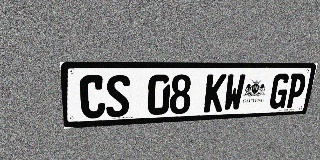0: (147, 74, 171, 115)
8: (169, 74, 193, 114)
C: (79, 75, 105, 119)
G: (268, 74, 291, 109)
K: (203, 74, 227, 112)
P: (285, 73, 307, 108)
S: (106, 75, 130, 118)
W: (223, 74, 246, 111)
